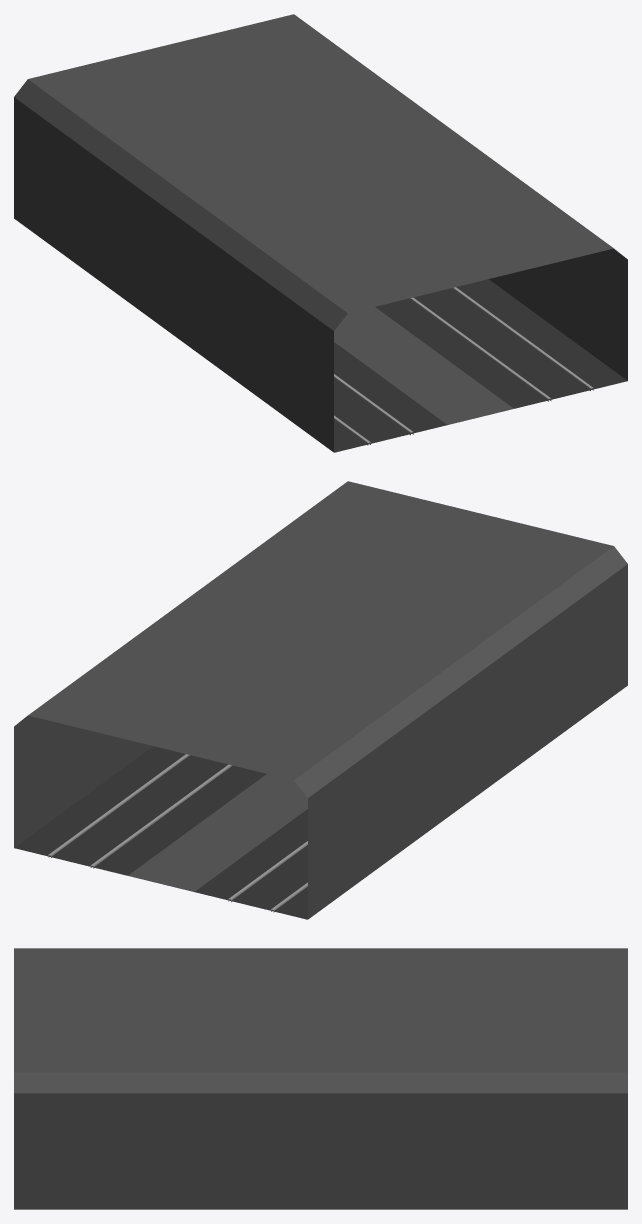
Rendered from SM_Floor_Metro_08.fbx.
3 renders of one model, top to bottom at view 1: azimuth 30°, elevation 25°; view 2: azimuth 150°, elevation 25°; view 3: azimuth 270°, elevation 25°, orthographic. The views are drawn at different scales.
Visible parts, largest first — view 1: SM_Floor_Metro_08; view 2: SM_Floor_Metro_08; view 3: SM_Floor_Metro_08.
Part boxes in pixels (x1=…): SM_Floor_Metro_08: x1=14, y1=14, x2=627, y2=452; SM_Floor_Metro_08: x1=14, y1=481, x2=627, y2=919; SM_Floor_Metro_08: x1=14, y1=948, x2=627, y2=1209.
Size of the model in its own units: 10.6 by 4.74 by 20.
